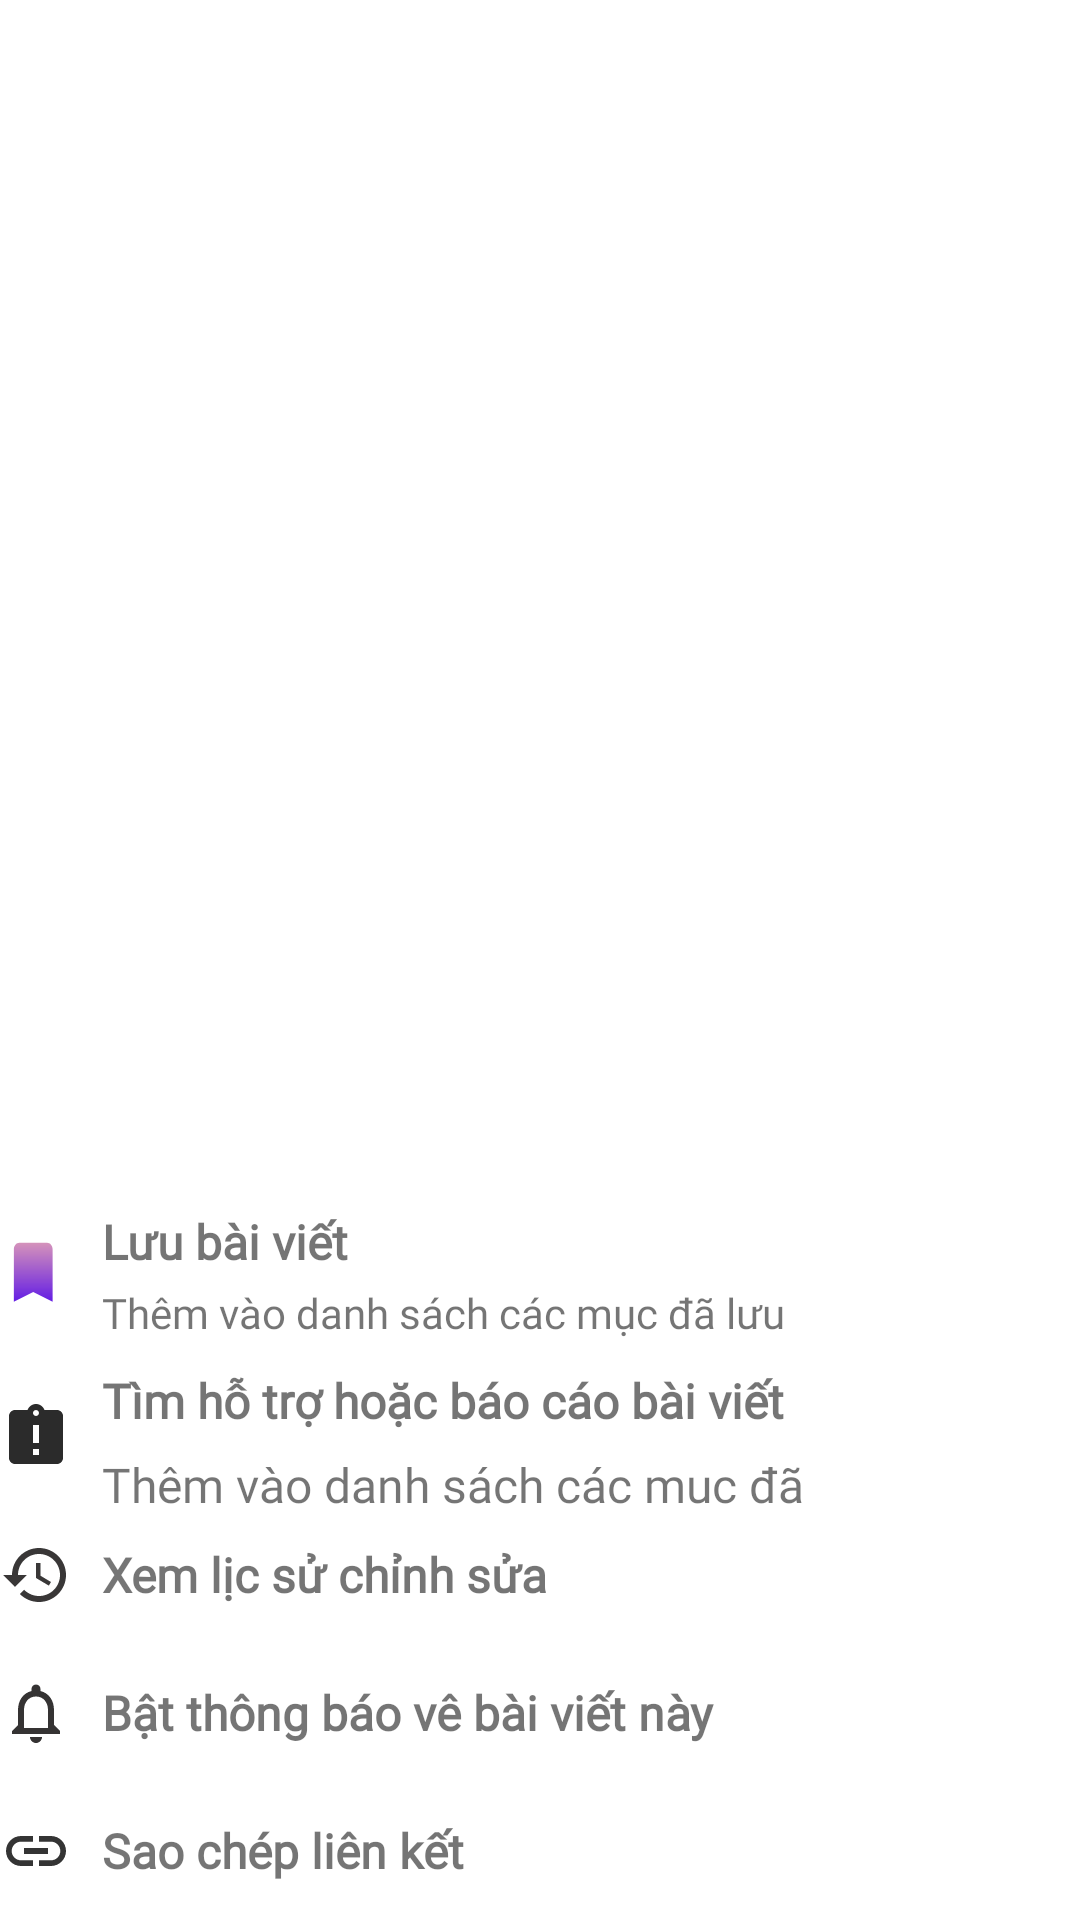

Icon click points for this 1080px×1920px phone screenshot, format [x,y]:
assignment late: [36,1434]
bookmark: [33,1272]
history: [34,1575]
insert link: [36,1851]
notifications none: [36,1713]
